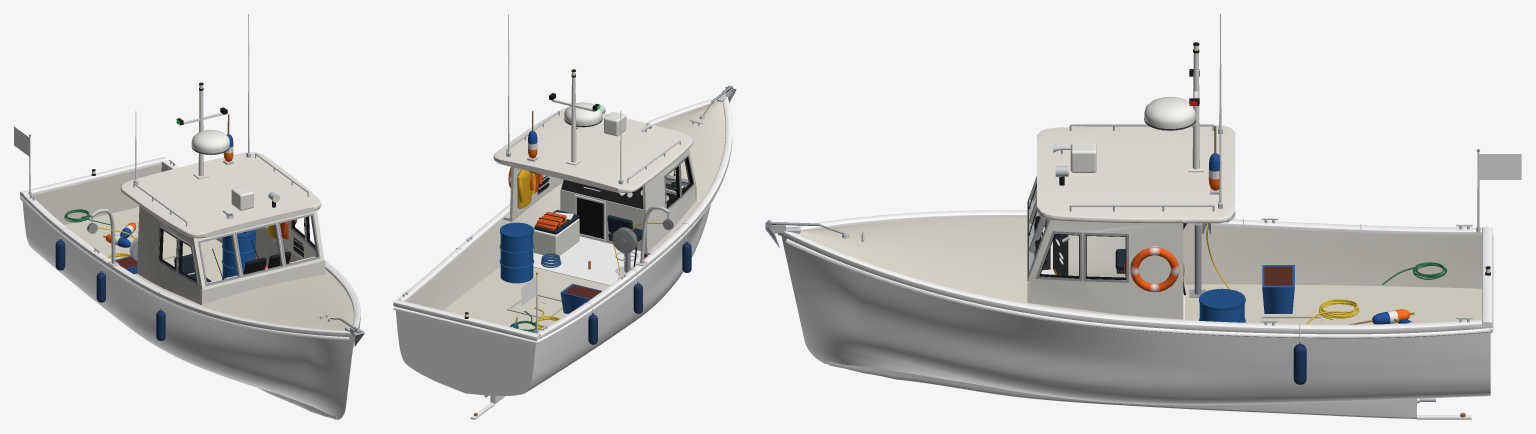
File: lobster_boat.glb
3 renders of one model, left to right at view 1: azimuth 30°, elevation 25°; view 2: azimuth 150°, elevation 25°; view 3: azimuth 270°, elevation 25°, orthographic. The views are drawn at different scales.
Visible parts, largest first — view 1: boat-gelcoat, boat-hull, boat-fittings, boat-wood; view 2: boat-gelcoat, boat-fittings, boat-hull, boat-wood; view 3: boat-gelcoat, boat-hull, boat-fittings, boat-wood.
Boxes of the visible parts, x1,y1,x2,y2 form: boat-gelcoat: (32, 152, 353, 330); boat-hull: (22, 202, 354, 419); boat-fittings: (14, 14, 364, 346); boat-wood: (20, 157, 360, 340); boat-gelcoat: (406, 101, 725, 332); boat-fittings: (402, 14, 736, 416); boat-hull: (396, 204, 710, 419); boat-wood: (393, 97, 732, 344); boat-gelcoat: (796, 125, 1481, 324); boat-hull: (781, 236, 1490, 419); boat-fittings: (765, 14, 1521, 417); boat-wood: (778, 210, 1493, 338).
Size of the model in its own units: 3.48 by 5.63 by 8.74.
